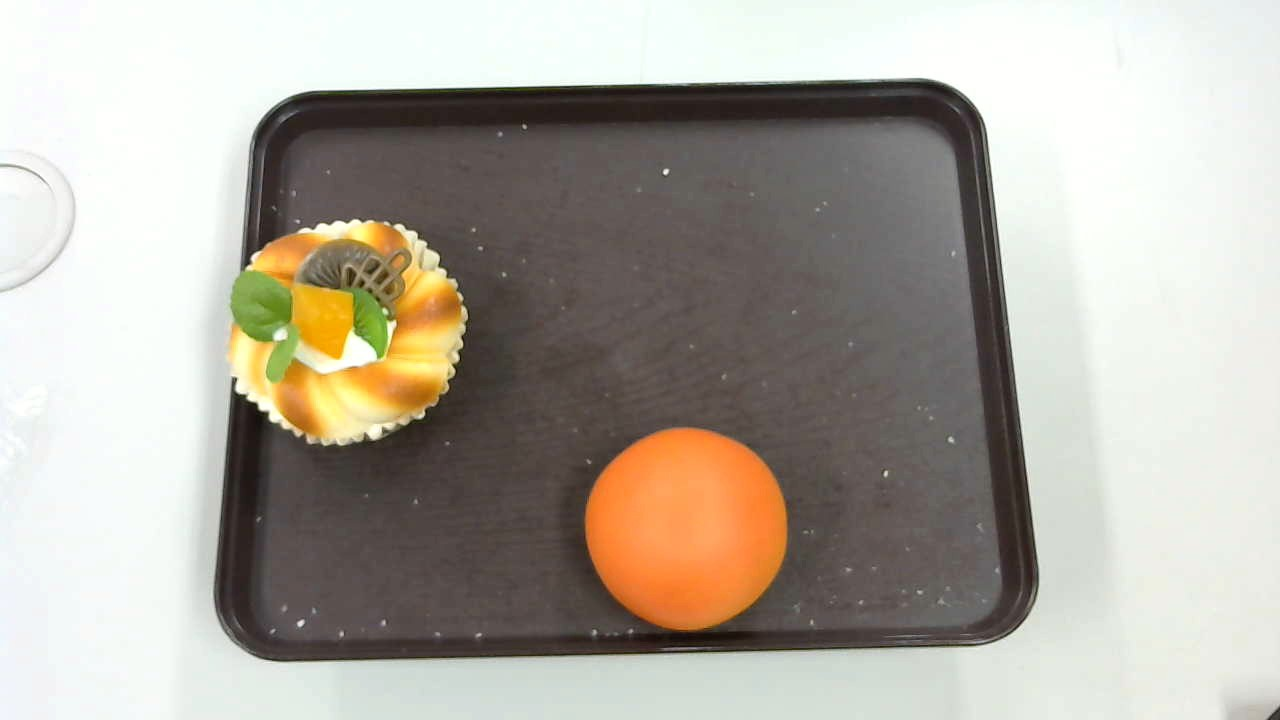bun: (584, 427, 787, 632)
fruit tart: (227, 218, 468, 448)
